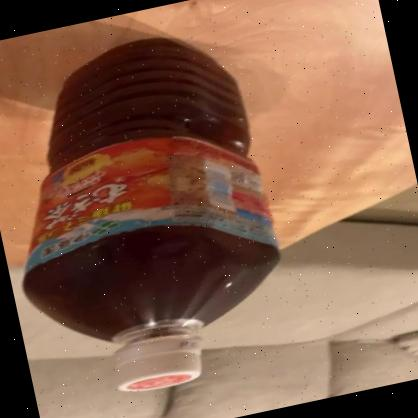bottle: (0, 21, 308, 412)
cap: (100, 319, 214, 401)
label: (4, 115, 284, 299)
